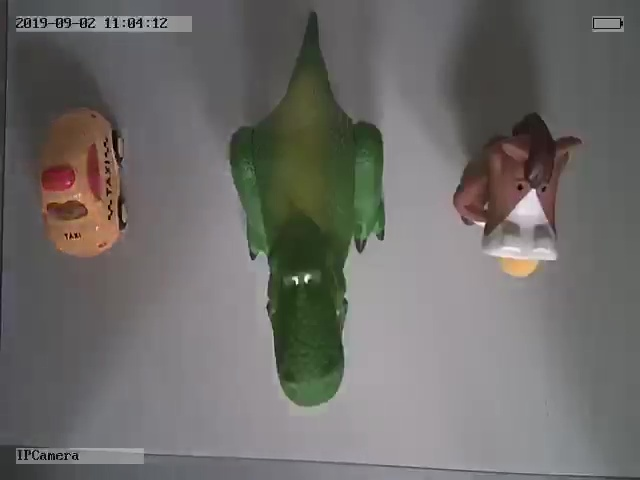car: (36, 105, 134, 257)
horse: (453, 111, 580, 278)
rex: (229, 13, 386, 406)
